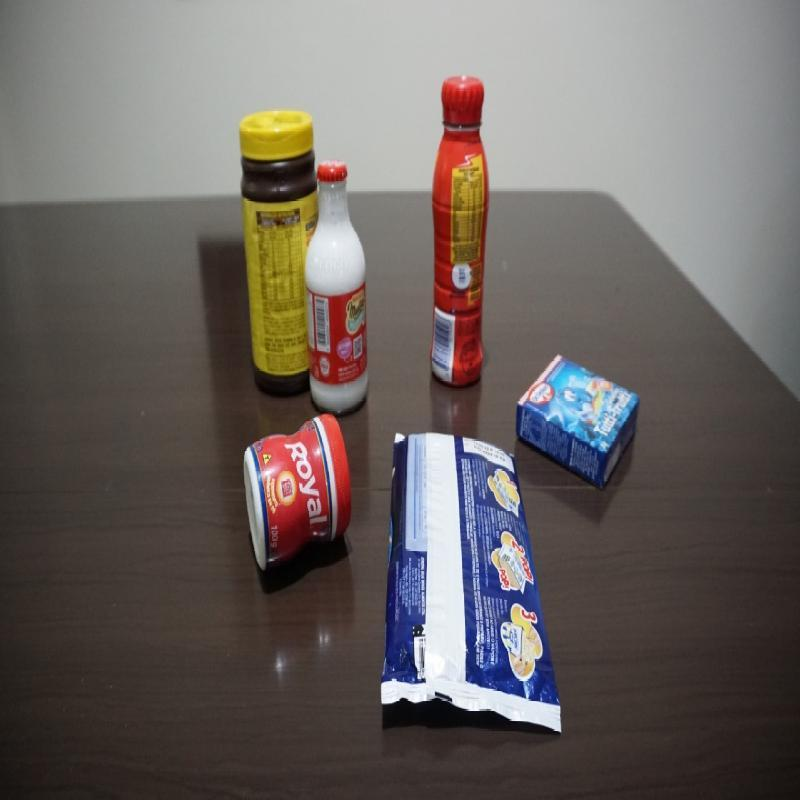Chocolate Milk: (430, 71, 489, 392), (302, 159, 370, 419)
Chocolate Powder: (237, 108, 320, 404)
Gelatine: (515, 353, 640, 494)
Popcorn: (379, 427, 564, 740)
Yeast: (242, 410, 355, 586)
